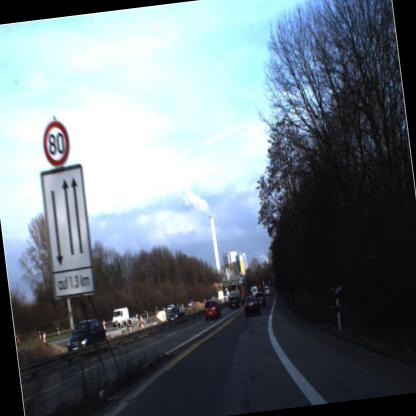prohibitory: (31, 113, 76, 177)
